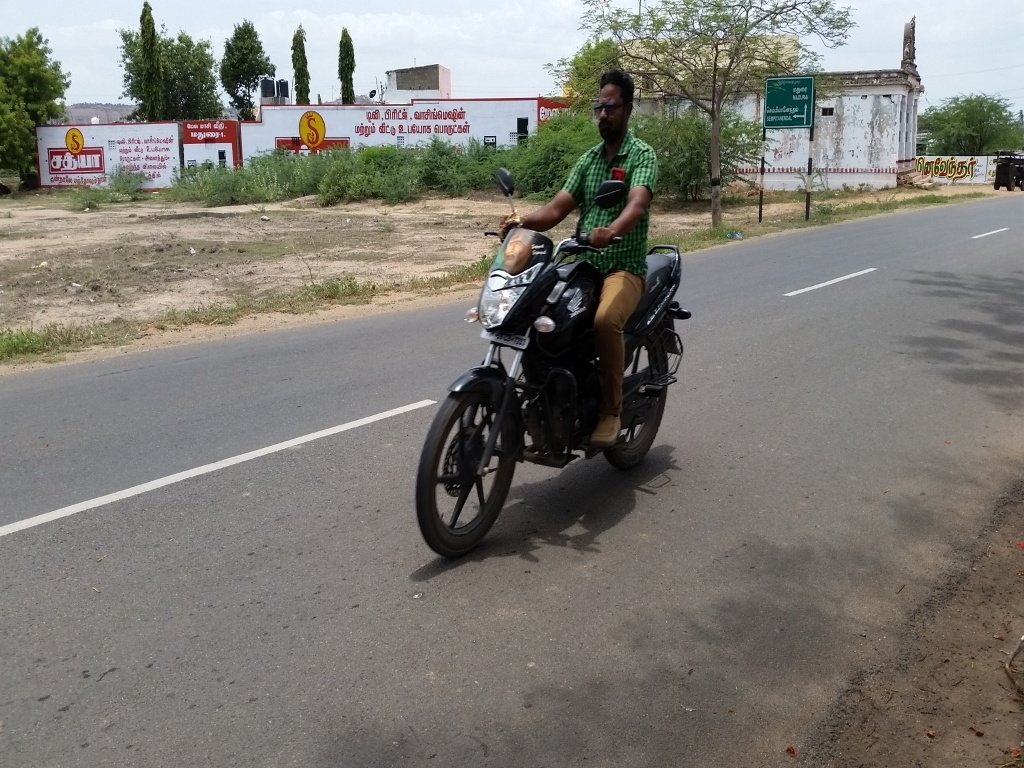biker: (375, 18, 753, 591)
nohelmet: (578, 56, 652, 160)
